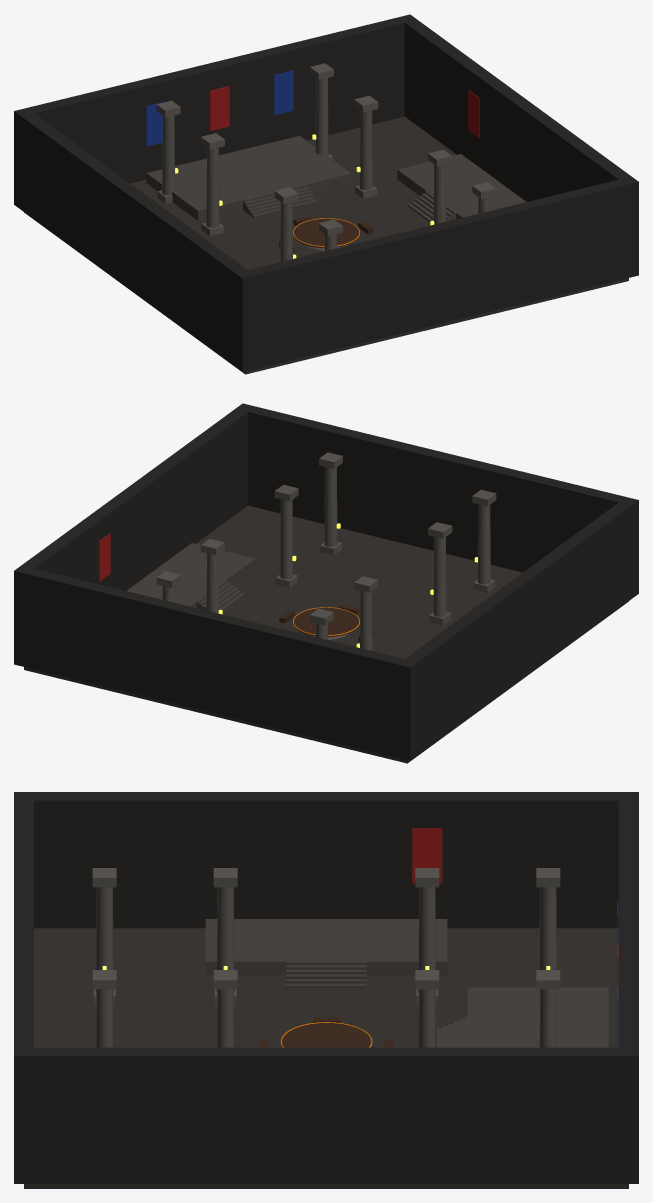
File: lobby.glb
3 renders of one model, top to bottom at view 1: azimuth 30°, elevation 25°; view 2: azimuth 150°, elevation 25°; view 3: azimuth 270°, elevation 25°, orthographic. The views are drawn at different scales.
Parts seen in each view (by area): view 1: Wall_South, Wall_North, Wall_West, Wall_East, Main_Floor, North_Dais, East_Wing_Balcony, Roundtable_Top, Pillar_2, Pillar_5, Pillar_1, Pillar_6 (+5 smaller); view 2: Wall_North, Wall_South, Wall_West, Main_Floor, Wall_East, East_Wing_Balcony, Roundtable_Top, Pillar_8, Pillar_4, Pillar_7, Pillar_3, Pillar_1 (+1 smaller); view 3: Wall_East, Wall_West, Main_Floor, West_Wing_Balcony, Wall_North, Wall_South, North_Dais, Roundtable_Top, Pillar_7, Pillar_1, Pillar_3, Pillar_5 (+5 smaller).
Boxes of the visible parts, <box> form: Wall_South: <box>235,177,638,371</box>; Wall_North: <box>14,14,417,209</box>; Wall_West: <box>14,109,255,371</box>; Wall_East: <box>398,14,638,278</box>; Main_Floor: <box>24,116,628,374</box>; North_Dais: <box>146,135,351,220</box>; East_Wing_Balcony: <box>397,154,526,218</box>; Roundtable_Top: <box>294,218,358,248</box>; Pillar_2: <box>359,98,372,190</box>; Pillar_5: <box>162,103,174,195</box>; Pillar_1: <box>206,135,219,227</box>; Pillar_6: <box>315,66,328,155</box>; Wall_North: <box>14,567,417,760</box>; Wall_South: <box>235,403,638,598</box>; Wall_West: <box>397,499,638,760</box>; Main_Floor: <box>24,505,628,763</box>; Wall_East: <box>14,404,254,667</box>; East_Wing_Balcony: <box>126,543,255,607</box>; Roundtable_Top: <box>294,607,358,637</box>; Pillar_8: <box>324,455,337,546</box>; Pillar_4: <box>280,487,293,579</box>; Pillar_7: <box>478,492,490,584</box>; Pillar_3: <box>433,524,446,616</box>; Pillar_1: <box>360,578,372,650</box>; Wall_East: <box>14,1047,638,1183</box>; Wall_West: <box>14,792,638,928</box>; Main_Floor: <box>24,928,628,1188</box>; West_Wing_Balcony: <box>205,919,447,975</box>; Wall_North: <box>619,792,638,1183</box>; Wall_South: <box>14,792,33,1183</box>; North_Dais: <box>467,987,608,1047</box>; Roundtable_Top: <box>282,1023,370,1047</box>; Pillar_7: <box>95,869,113,992</box>; Pillar_1: <box>418,869,436,992</box>; Pillar_3: <box>216,869,234,992</box>; Pillar_5: <box>539,869,556,969</box>.
Bounding box in the file's own units: 62 × 15 × 62.
